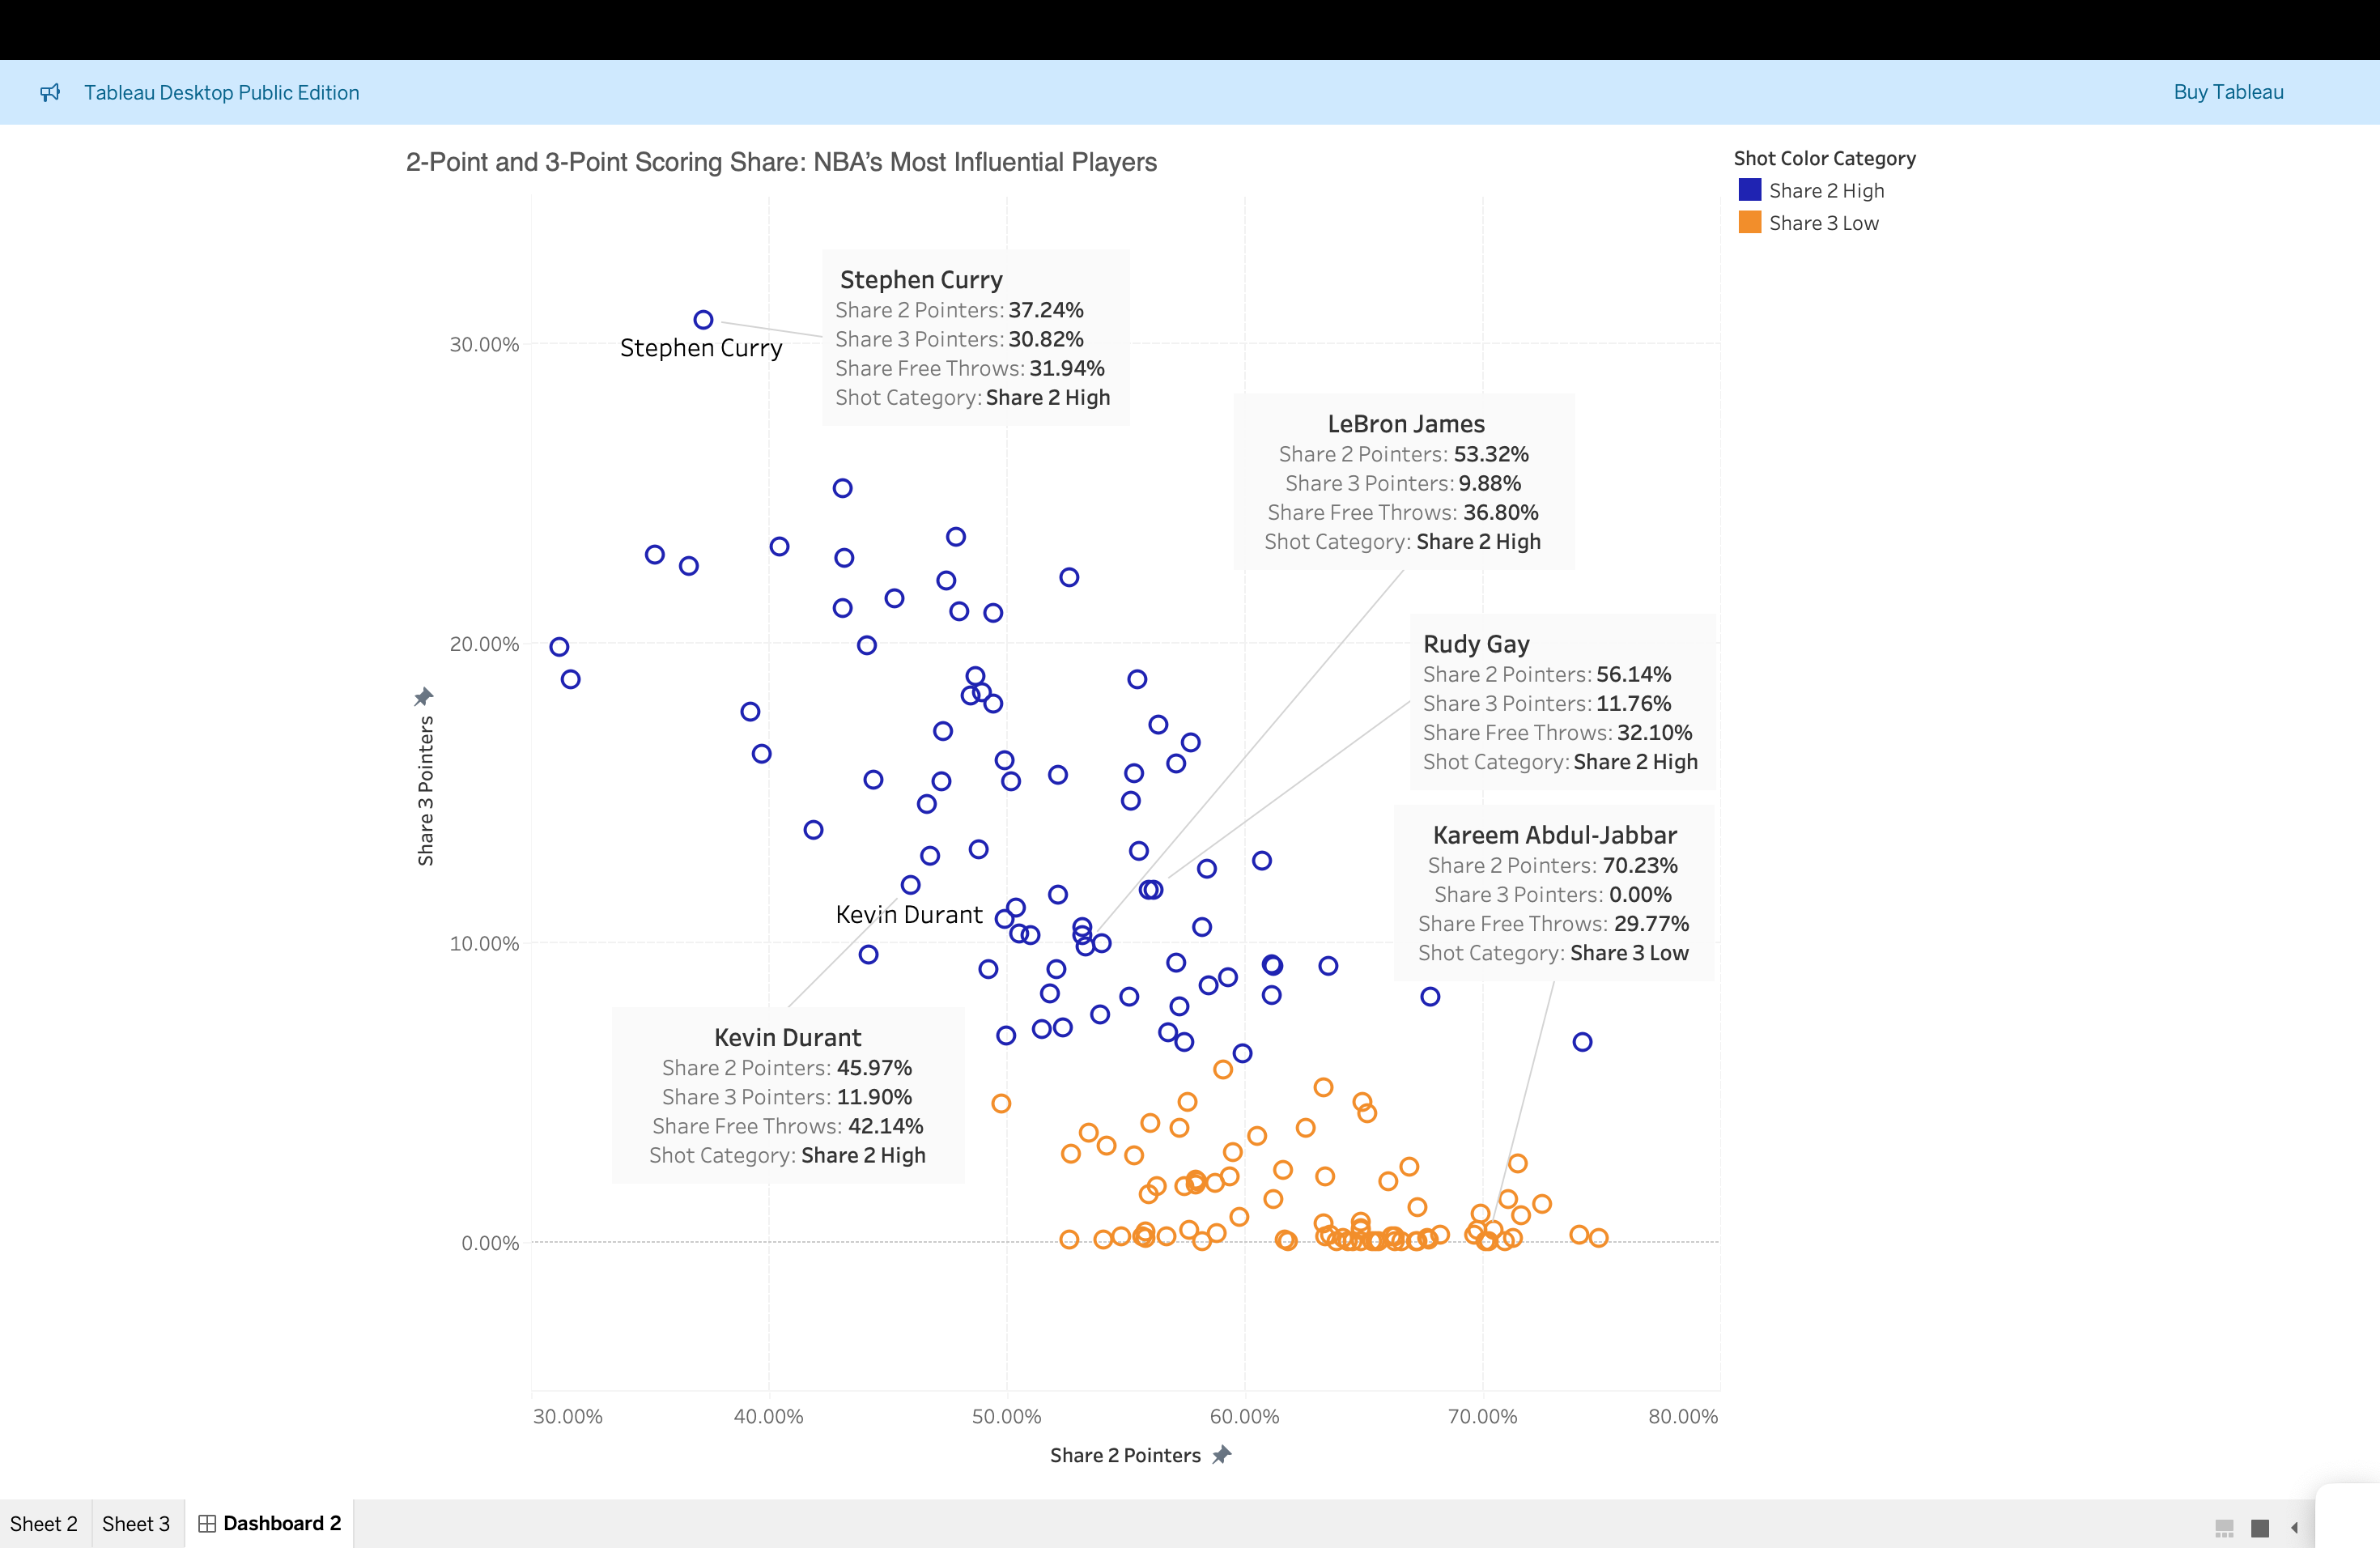

This screenshot's page, from the dashboard's own definition file:
{"tool":"tableau","page":{"name":"Dashboard 2","canvas":[1000,1000],"units":"permille","ordinal":0},"visuals":[{"type":"worksheet","title":"Sheet 3","mark":"Shape","rows":["Calculation_1298021862514221057"],"cols":["Calculation_1298021862513991680"],"box":[8,9.4,824,981.2]},{"type":"legend","title":"Sheet 3","param":"[federated.0b6m8de0vp6ln912ska2g1oxttds].[usr:Calculation_1397875110589931521:nk","box":[832,9.4,160,77.7]}]}

Visuals, with their boxes on the dashboard's canvas, which has no fixed pixel size, in thousandths of its width and height (x1, y1, x2, y2). These are canvas units, not pixel positions in the 2380x1548 screenshot, which may show the page scaled, cropped or inside an application window:
"Sheet 3" worksheet (Shape marks): x1=8 y1=9 x2=832 y2=991
"Sheet 3" legend: x1=832 y1=9 x2=992 y2=87
